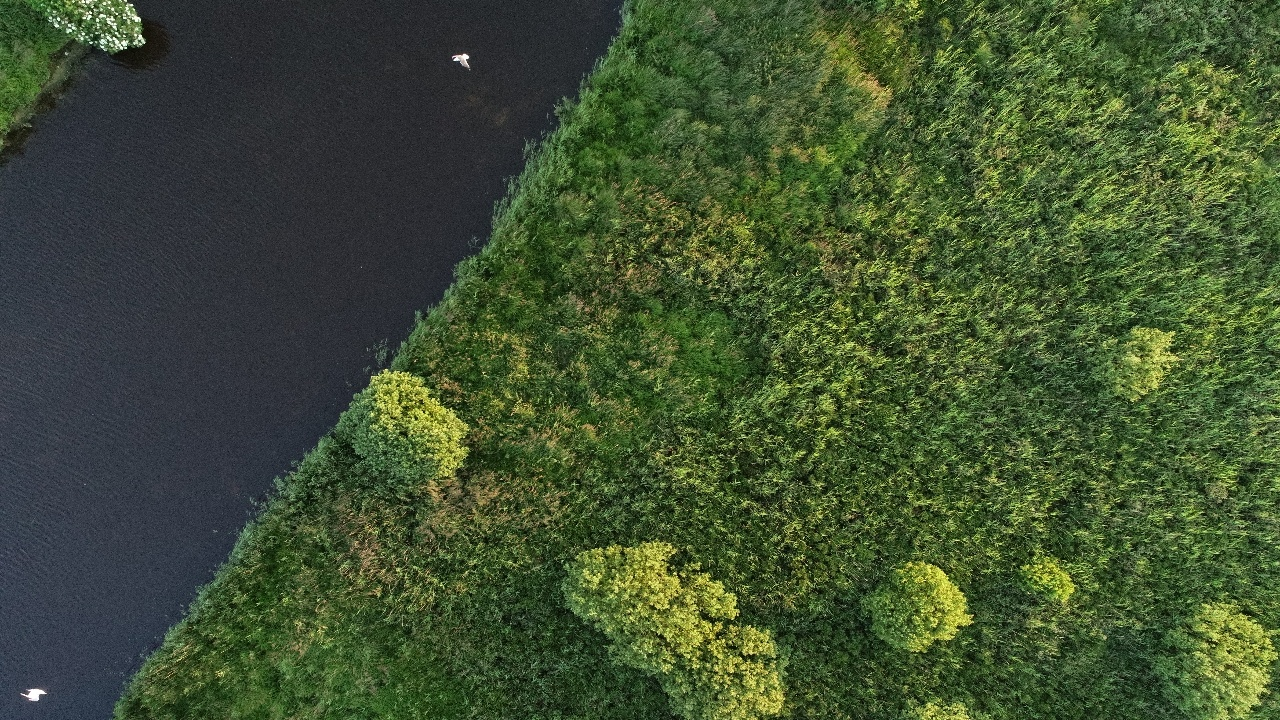Bird: (14, 677, 54, 709), (441, 44, 481, 76)
